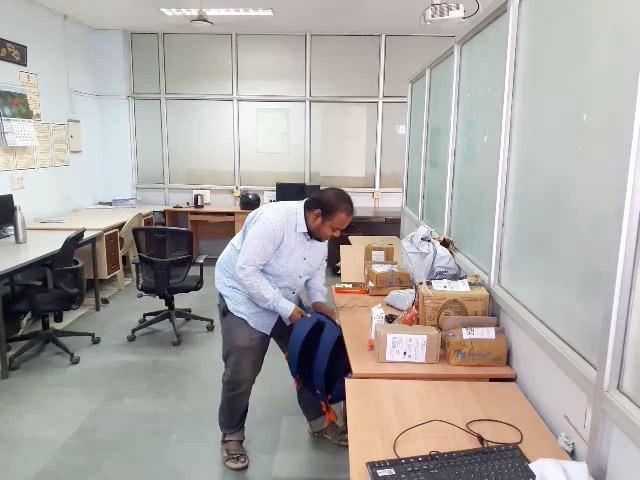shoplifting: (125, 232, 483, 459)
